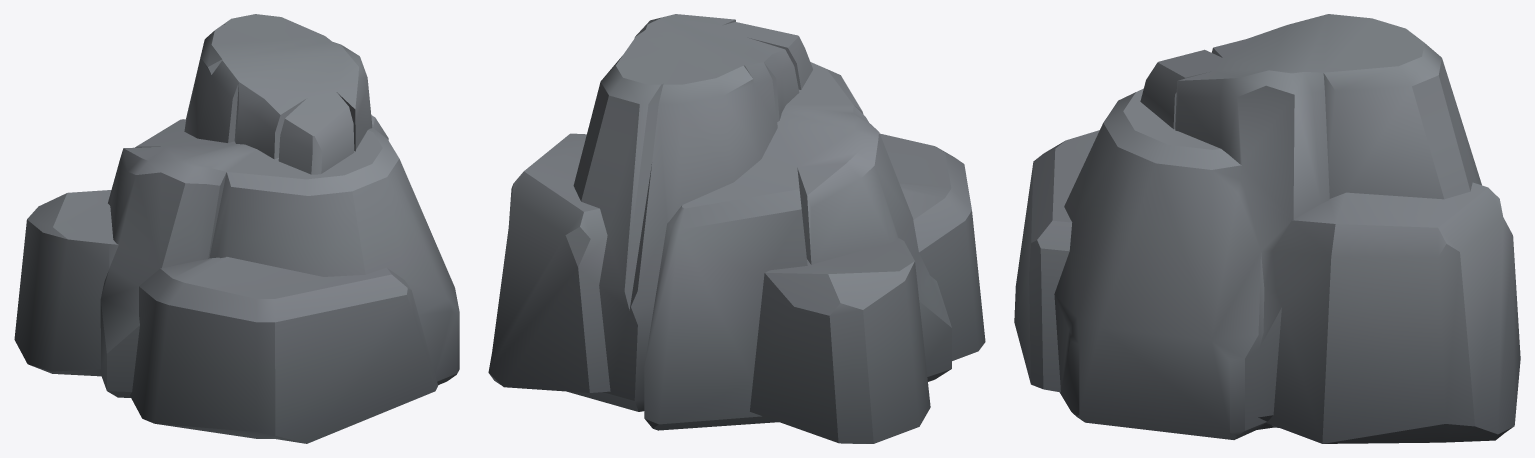
File: Rock_2.fbx
3 views of the same model, side by side, from view 1: azimuth 30°, elevation 25°; view 2: azimuth 150°, elevation 25°; view 3: azimuth 270°, elevation 25° (orthographic). The views are drawn at different scales.
Parts seen in each view (by area): view 1: Rock_2; view 2: Rock_2; view 3: Rock_2.
Boxes of the visible parts, left/top/right/bottom form: Rock_2: left=14, top=14, right=459, bottom=443; Rock_2: left=488, top=14, right=985, bottom=443; Rock_2: left=1014, top=14, right=1520, bottom=443.
Size of the model in its own units: 1599 by 1236 by 1647.
